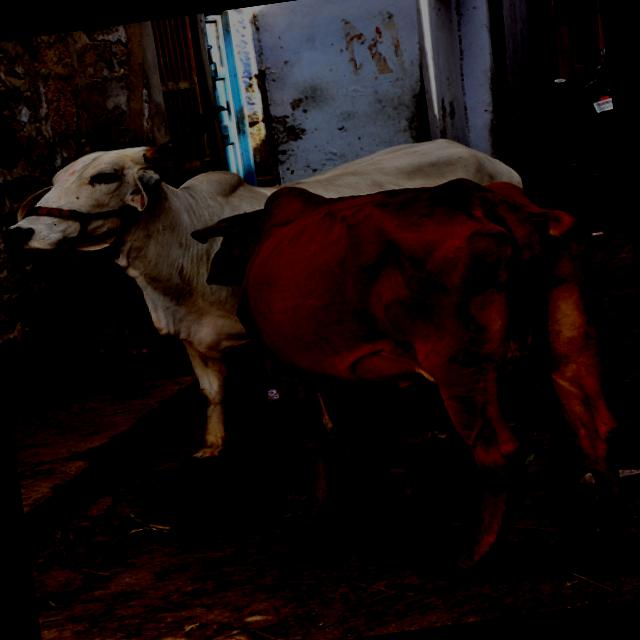Vehicle: (548, 40, 620, 164)
